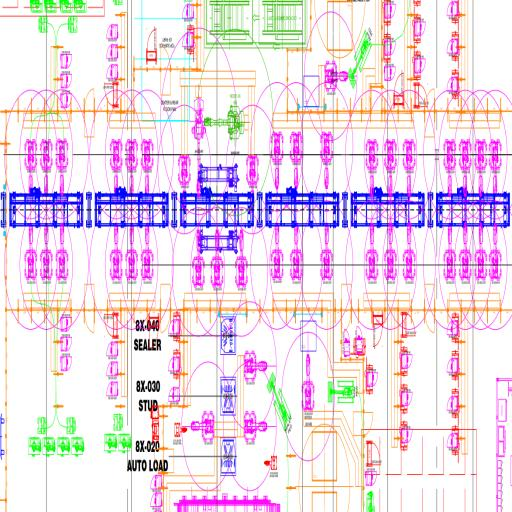robot: (193, 98, 206, 199), (268, 220, 285, 288), (288, 128, 306, 192), (323, 56, 350, 97), (363, 220, 380, 284), (383, 220, 399, 286), (318, 130, 335, 190), (234, 228, 250, 291), (402, 137, 418, 199), (189, 408, 215, 446), (270, 129, 286, 190), (383, 138, 398, 203), (320, 220, 334, 286), (474, 220, 488, 286), (24, 136, 38, 201), (242, 408, 268, 443), (39, 224, 53, 288), (56, 224, 70, 288), (442, 220, 456, 284), (56, 136, 70, 199), (301, 353, 315, 416), (24, 222, 38, 284), (365, 138, 379, 200), (403, 220, 417, 282), (489, 137, 503, 199), (459, 220, 472, 286), (192, 226, 205, 290), (40, 135, 53, 198), (141, 138, 155, 196), (290, 224, 303, 285), (246, 152, 258, 218), (244, 349, 268, 382), (444, 135, 456, 199), (141, 225, 154, 283), (490, 224, 502, 286), (179, 154, 191, 215), (125, 226, 138, 282), (110, 226, 123, 281), (460, 137, 472, 196), (126, 140, 138, 198), (110, 139, 122, 195), (475, 138, 487, 194), (212, 229, 223, 289)
